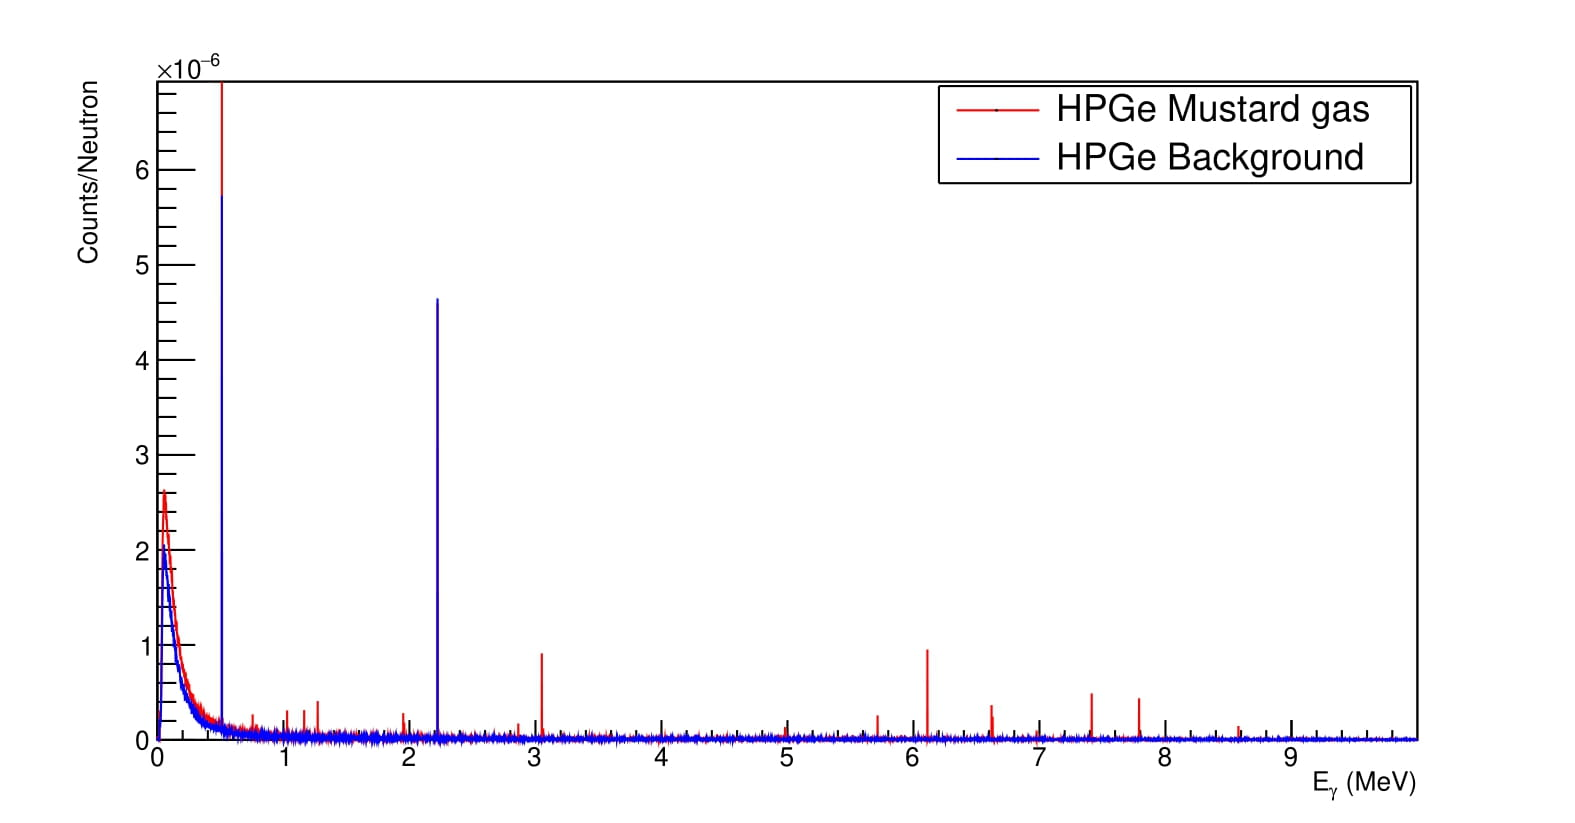gauss: (206, 100, 229, 759), (429, 304, 446, 778), (525, 651, 572, 710), (917, 643, 940, 714)
other: (444, 717, 1424, 755), (232, 722, 429, 755)
